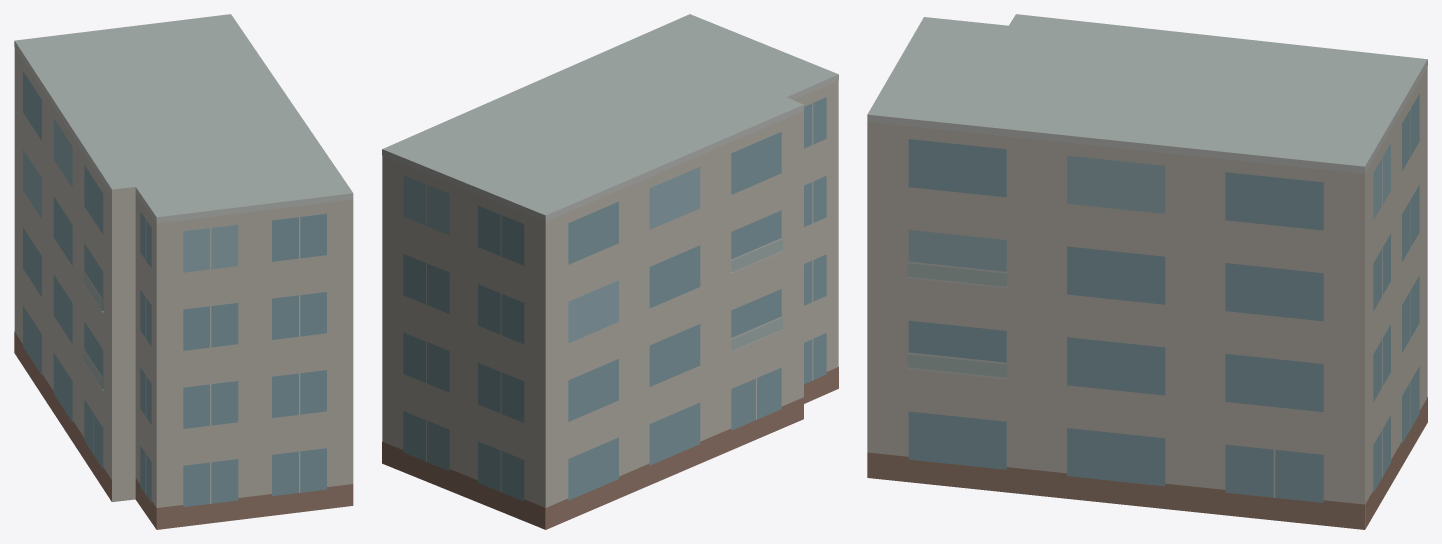
Rendered from survey-upis-32705352.glb.
The picture shows the model from 3 angles, left to right: view 1: azimuth 30°, elevation 25°; view 2: azimuth 150°, elevation 25°; view 3: azimuth 270°, elevation 25°; orthographic projection. The views are drawn at different scales.
Visible parts, largest first — view 1: survey-upis-32705352.tmp; view 2: survey-upis-32705352.tmp; view 3: survey-upis-32705352.tmp.
Boxes of the visible parts, left/top/right/bottom form: survey-upis-32705352.tmp: left=14, top=14, right=353, bottom=529; survey-upis-32705352.tmp: left=382, top=14, right=838, bottom=529; survey-upis-32705352.tmp: left=867, top=14, right=1427, bottom=529.
Size of the model in its own units: 11 by 12.2 by 17.07.
